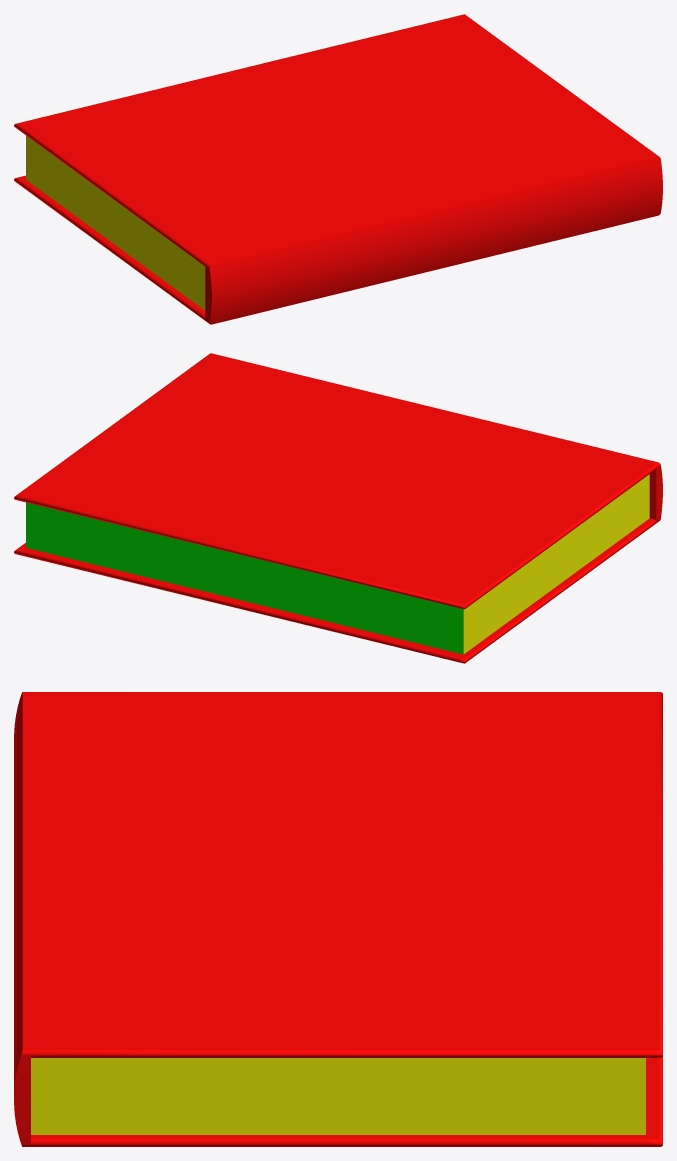
3 renders of one model, top to bottom at view 1: azimuth 30°, elevation 25°; view 2: azimuth 150°, elevation 25°; view 3: azimuth 270°, elevation 25°, orthographic. The views are drawn at different scales.
Visible parts, largest first — view 1: Mesh1_Mesh1; view 2: Mesh1_Mesh1; view 3: Mesh1_Mesh1.
Boxes of the visible parts, x1,y1,x2,y2 form: Mesh1_Mesh1: (14, 14, 662, 324); Mesh1_Mesh1: (14, 353, 662, 663); Mesh1_Mesh1: (14, 692, 662, 1146).
Bounding box in the file's own units: 200 × 25 × 152.
